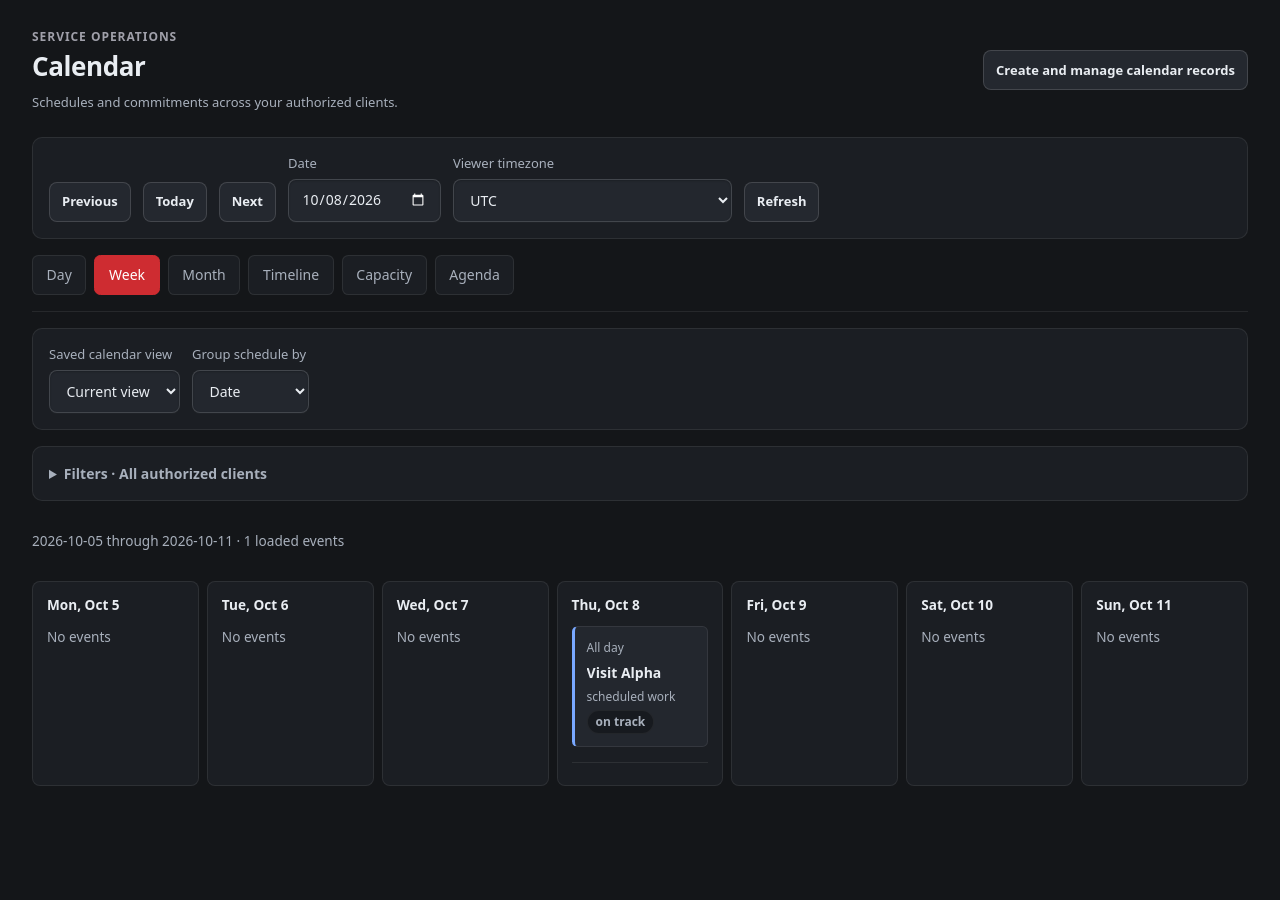
Scenario: requires a preview and a reason before applying a schedule change
Click the button "All day Visit Alpha scheduled work on track".
click(640, 687)  # box 572,626 -> 708,747
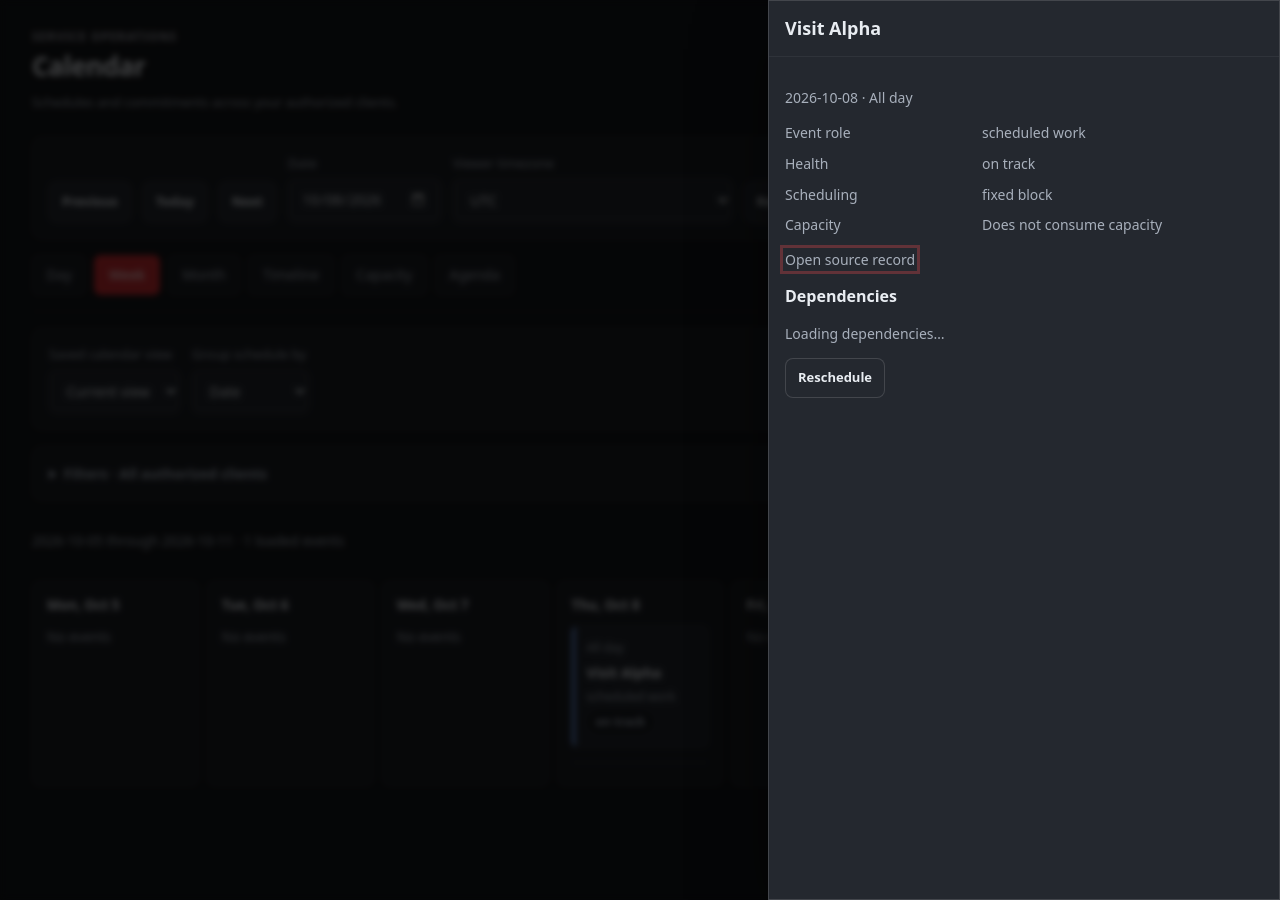
Click the button "Reschedule".
click(835, 378)  # box 785,358 -> 885,398
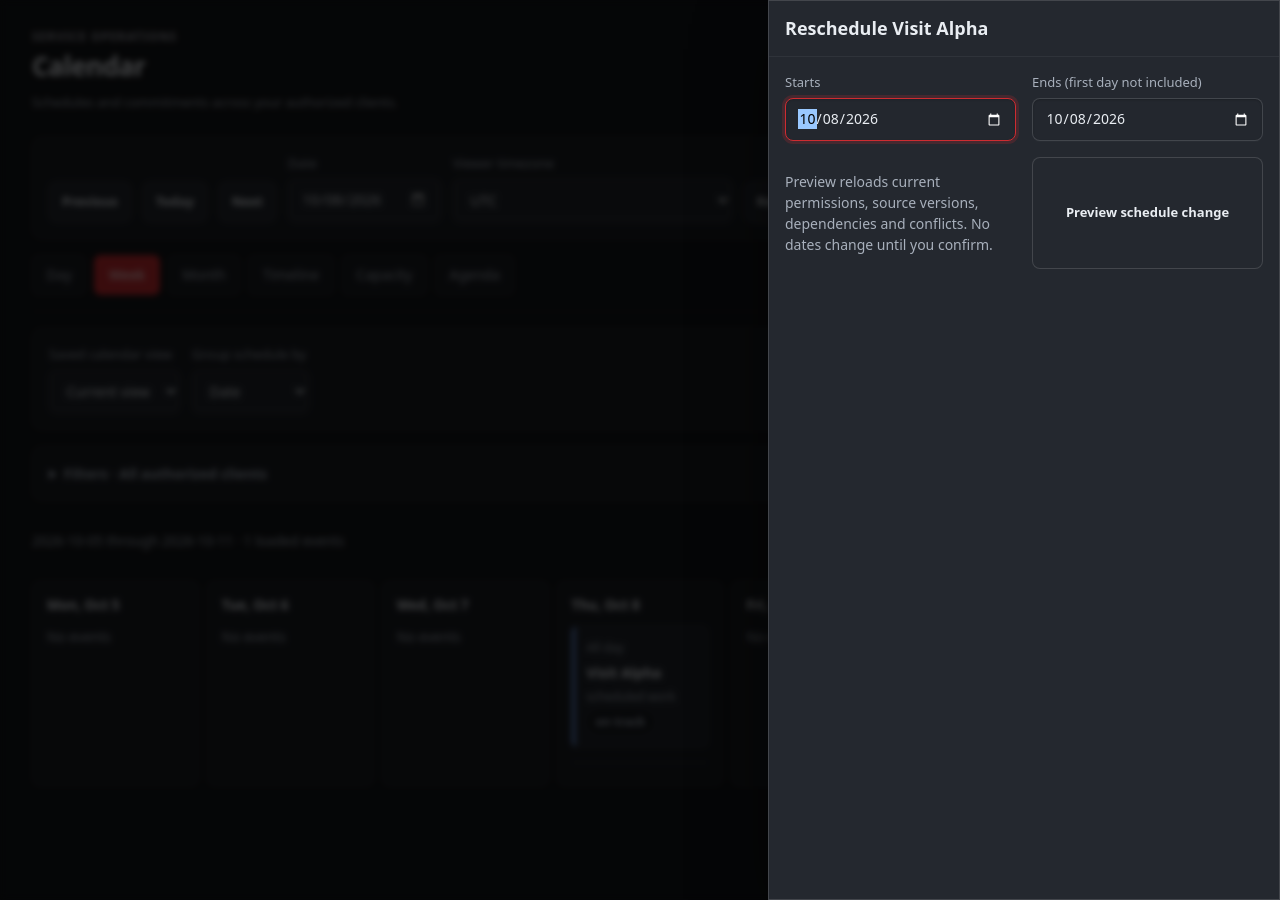
Click the button "Preview schedule change".
click(1148, 213)  # box 1032,157 -> 1263,269
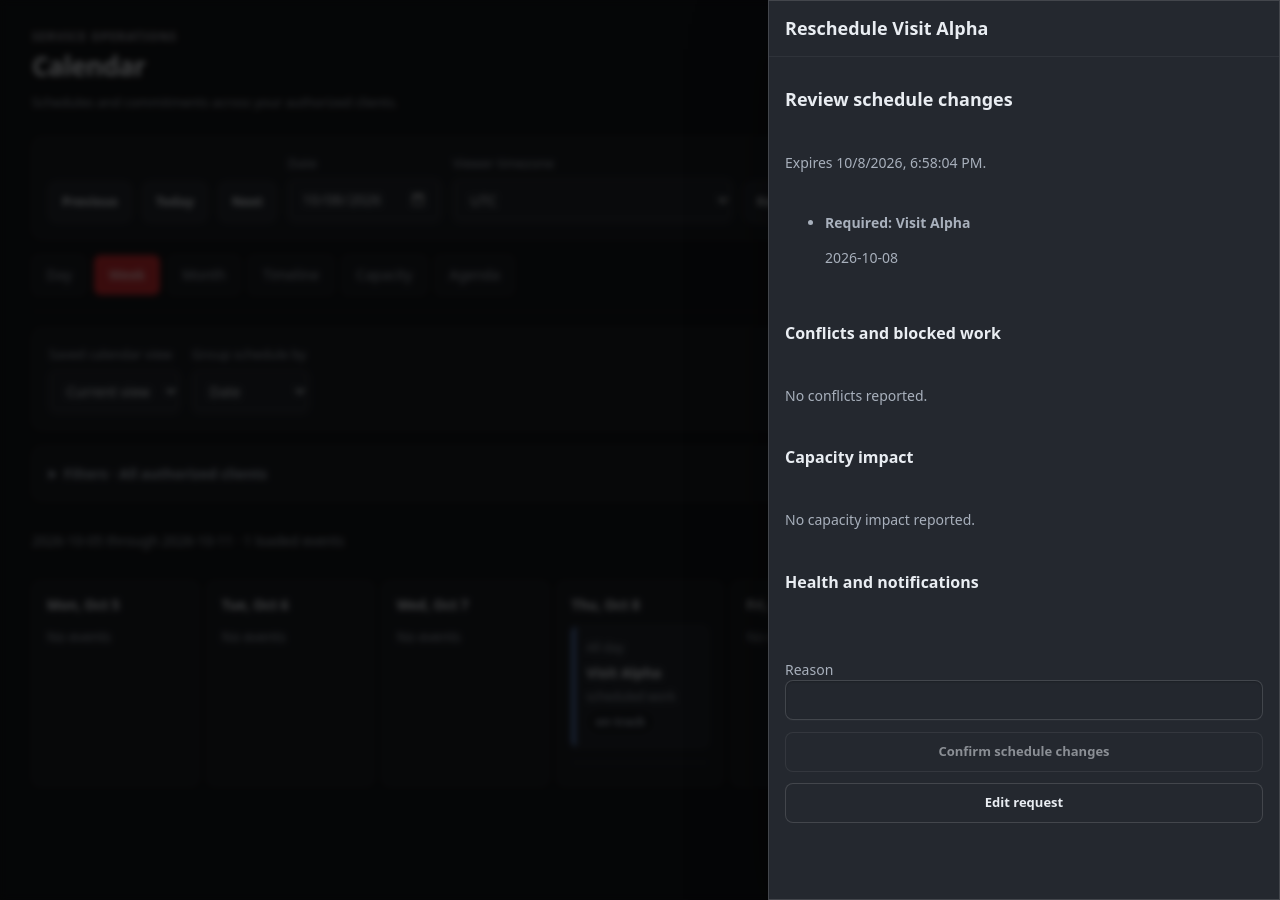
Expected: the button "Confirm schedule changes" is disabled, 785,732 -> 1263,772
Type "Customer requested a later visit" into the field labelled "Reason".
click(1024, 700); type("Customer requested a later visit")  # box 785,680 -> 1263,720
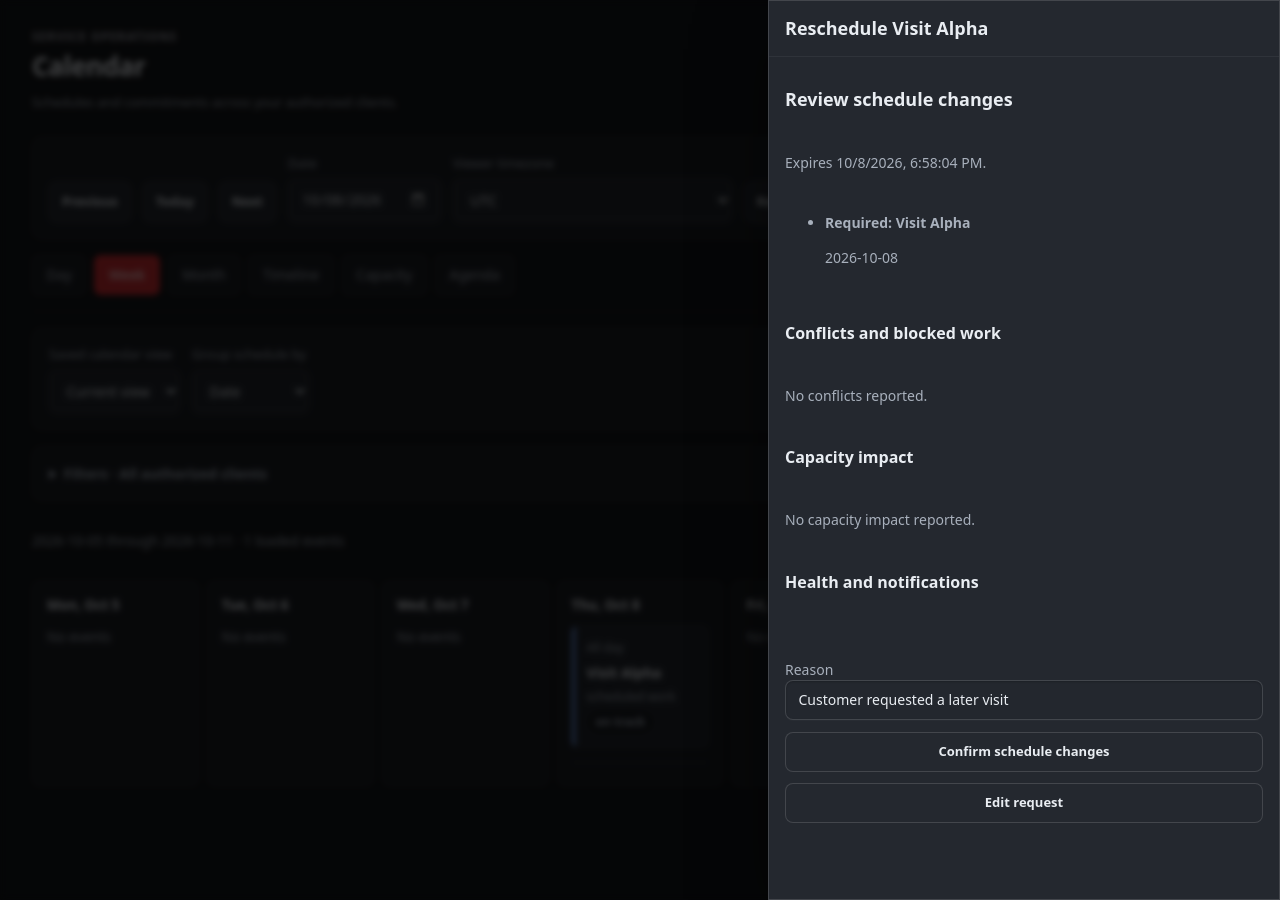
Click the button "Confirm schedule changes".
click(1024, 752)  # box 785,732 -> 1263,772
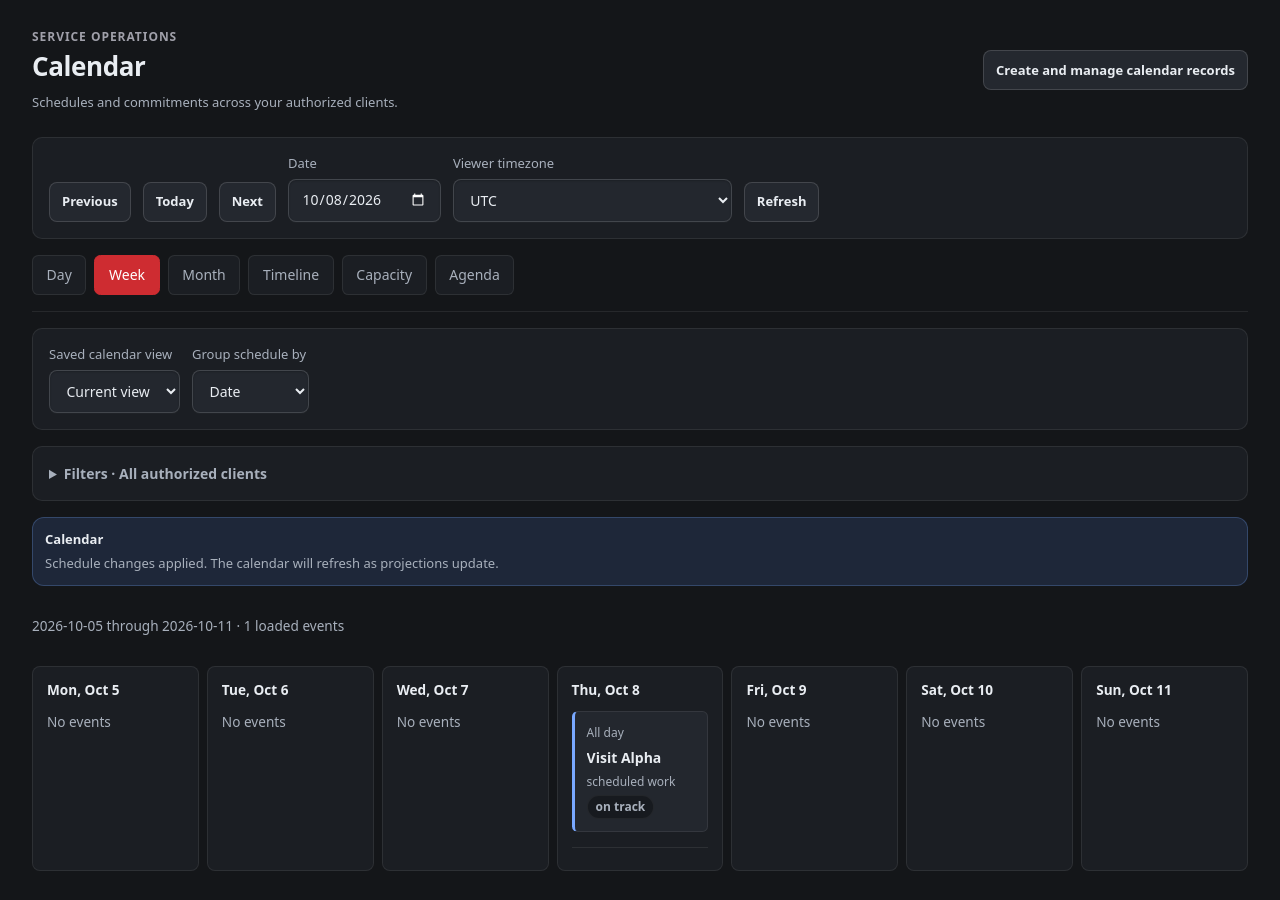
Expected: the text "Schedule changes applied" is shown, 45,554 -> 499,572
